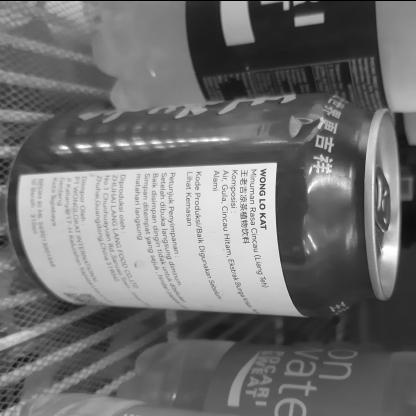alumunium_can: (0, 84, 416, 322)
